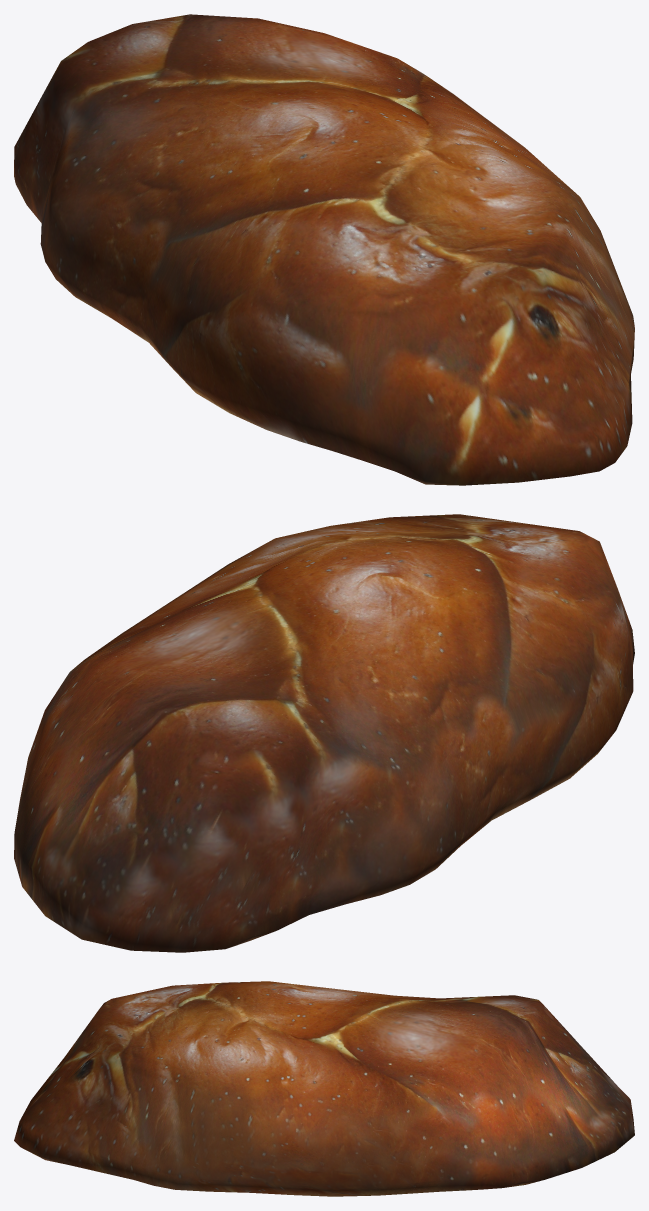
File: bun1.FBX
3 renders of one model, top to bottom at view 1: azimuth 30°, elevation 25°; view 2: azimuth 150°, elevation 25°; view 3: azimuth 270°, elevation 25°, orthographic. The views are drawn at different scales.
Visible parts, largest first — view 1: bun1; view 2: bun1; view 3: bun1.
Part boxes in pixels (x1,y1,x2,y2): bun1: (14,14,634,485); bun1: (14,514,634,952); bun1: (14,981,634,1196).
Bounding box in the file's own units: 5.78 × 2.75 × 11.24.
1 material, 1 textured.
